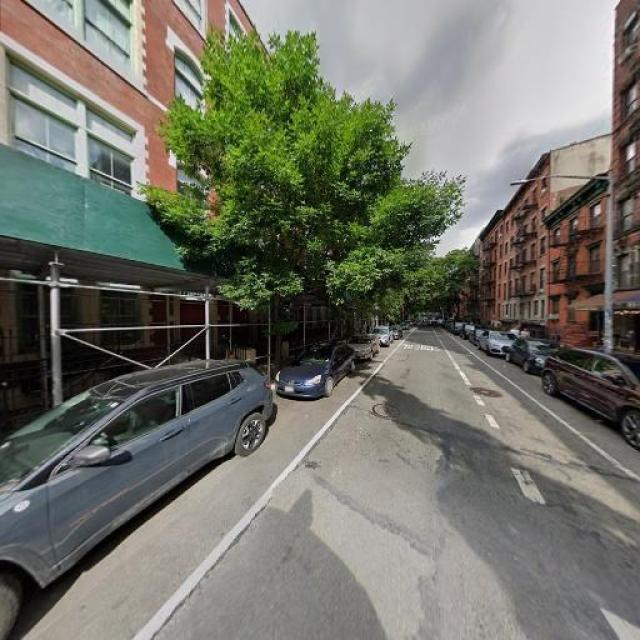Building: (1, 1, 220, 419), (550, 173, 606, 359), (615, 1, 640, 367), (502, 164, 544, 347)
